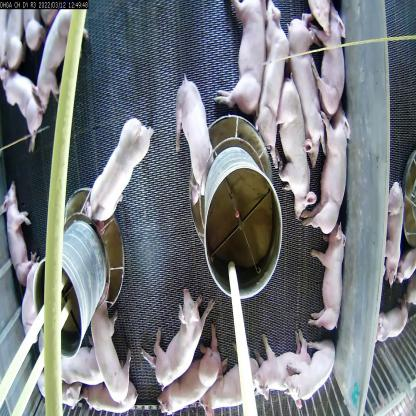Pig: (134, 278, 206, 384), (81, 284, 136, 400), (86, 121, 148, 222), (274, 79, 319, 216), (285, 13, 323, 168), (224, 0, 268, 127), (34, 15, 92, 102), (254, 0, 286, 157), (174, 73, 211, 208), (313, 105, 350, 238), (157, 344, 225, 415), (315, 218, 350, 338), (204, 344, 263, 415), (0, 53, 46, 143), (311, 7, 345, 120), (250, 330, 304, 401), (0, 177, 33, 286), (289, 343, 341, 410), (59, 323, 102, 394), (86, 379, 134, 416)
